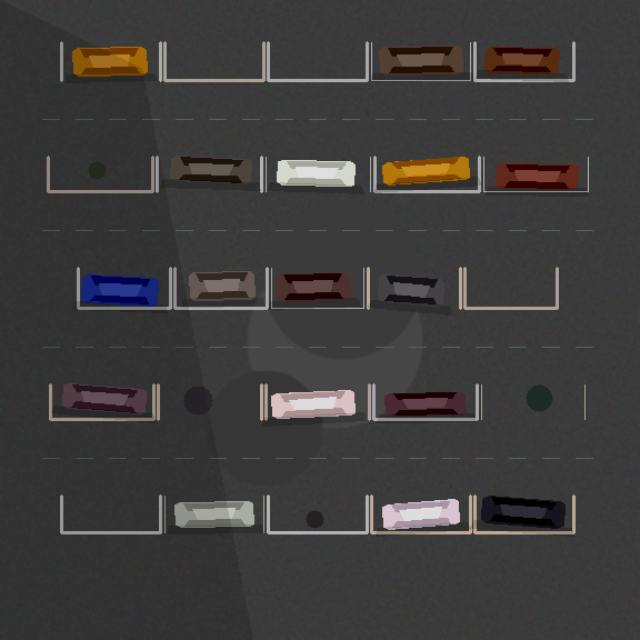space-empty: (164, 42, 263, 80), (268, 42, 367, 80), (464, 268, 557, 308), (158, 384, 261, 419), (481, 384, 584, 419), (61, 496, 160, 532), (268, 496, 367, 532), (48, 157, 152, 191)
space-occupied: (61, 42, 160, 80), (371, 42, 470, 80), (474, 42, 573, 80), (174, 268, 267, 308), (78, 268, 170, 308), (271, 268, 363, 308), (368, 268, 460, 308), (373, 384, 477, 419), (50, 384, 153, 419), (266, 384, 369, 419), (374, 157, 479, 191), (483, 157, 588, 191), (164, 496, 263, 532), (371, 496, 470, 532), (474, 496, 573, 532), (157, 157, 261, 191), (266, 157, 370, 191)
